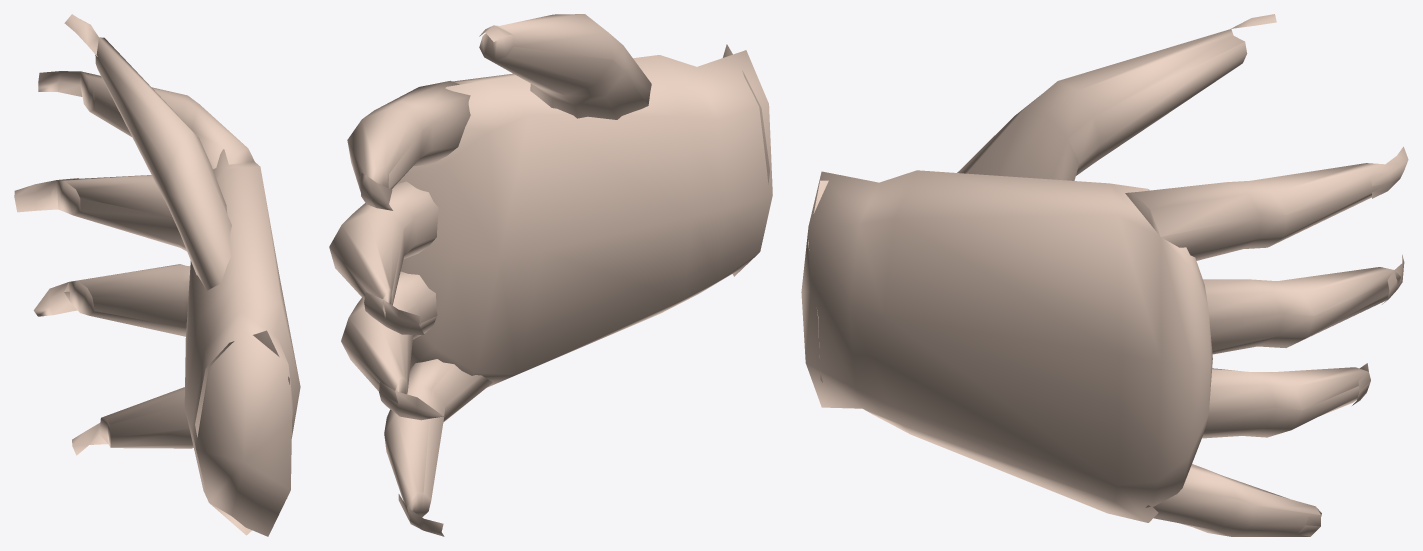
The model's file is GrannyHandRight.fbx.
3 views of the same model, side by side, from view 1: azimuth 30°, elevation 25°; view 2: azimuth 150°, elevation 25°; view 3: azimuth 270°, elevation 25° (orthographic). The views are drawn at different scales.
Visible parts, largest first — view 1: GrannyHandRight; view 2: GrannyHandRight; view 3: GrannyHandRight.
Part boxes in pixels (x1,y1,x2,y2): GrannyHandRight: [14, 14, 300, 536]; GrannyHandRight: [329, 14, 772, 536]; GrannyHandRight: [801, 14, 1408, 536].
Size of the model in its own units: 0.0751 by 0.1474 by 0.1624.
